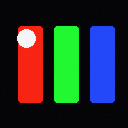2 circle: (17, 29, 35, 47)
